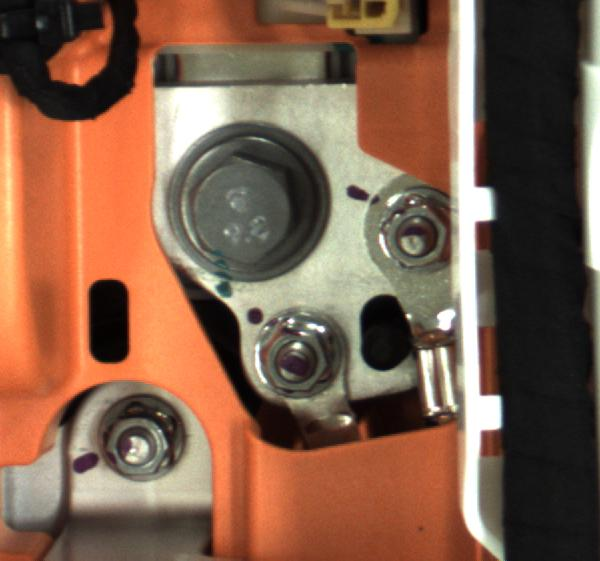nut_b: (161, 116, 329, 293)
screw_s: (93, 384, 201, 489), (246, 303, 350, 400), (361, 182, 465, 277)
